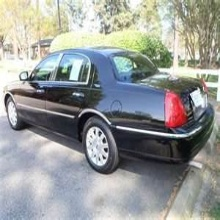no damage: (3, 48, 216, 174)
